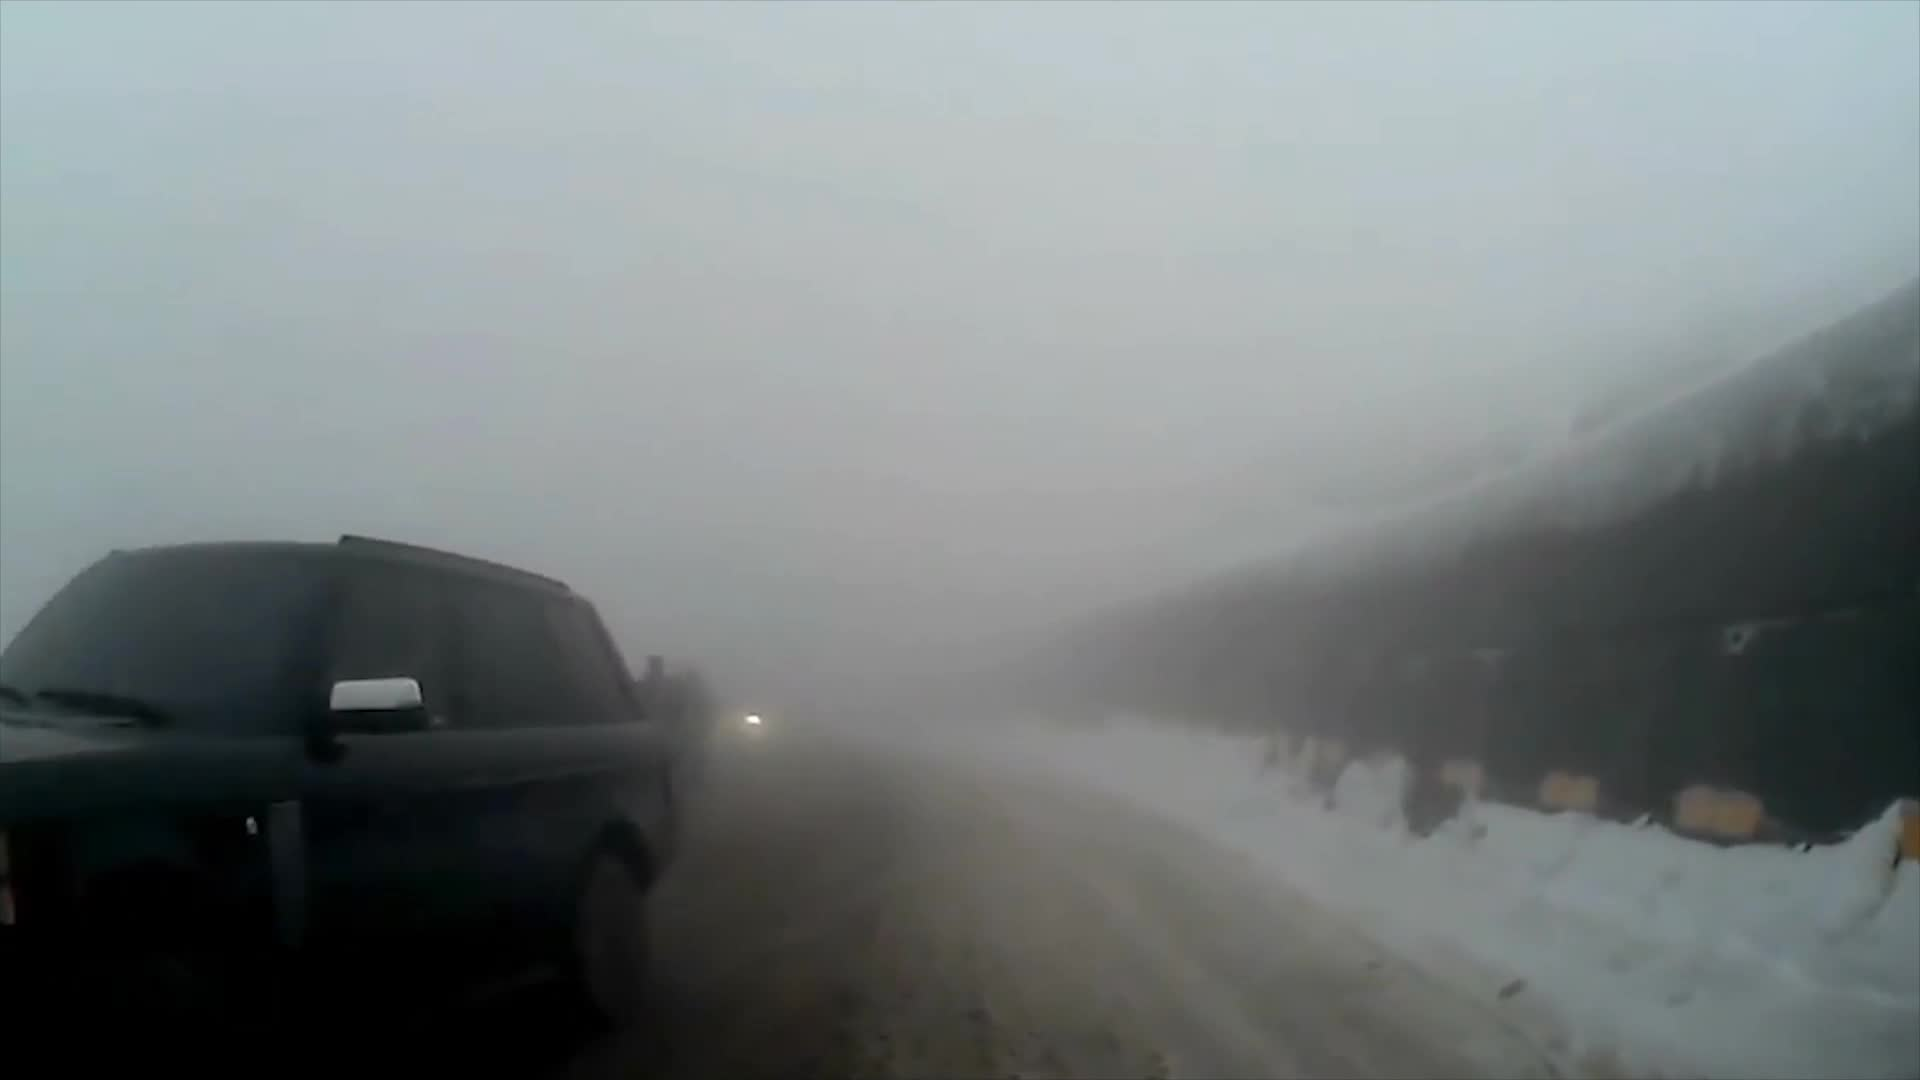pedestrian: (547, 661, 633, 837)
vehicle: (0, 529, 684, 1080)
